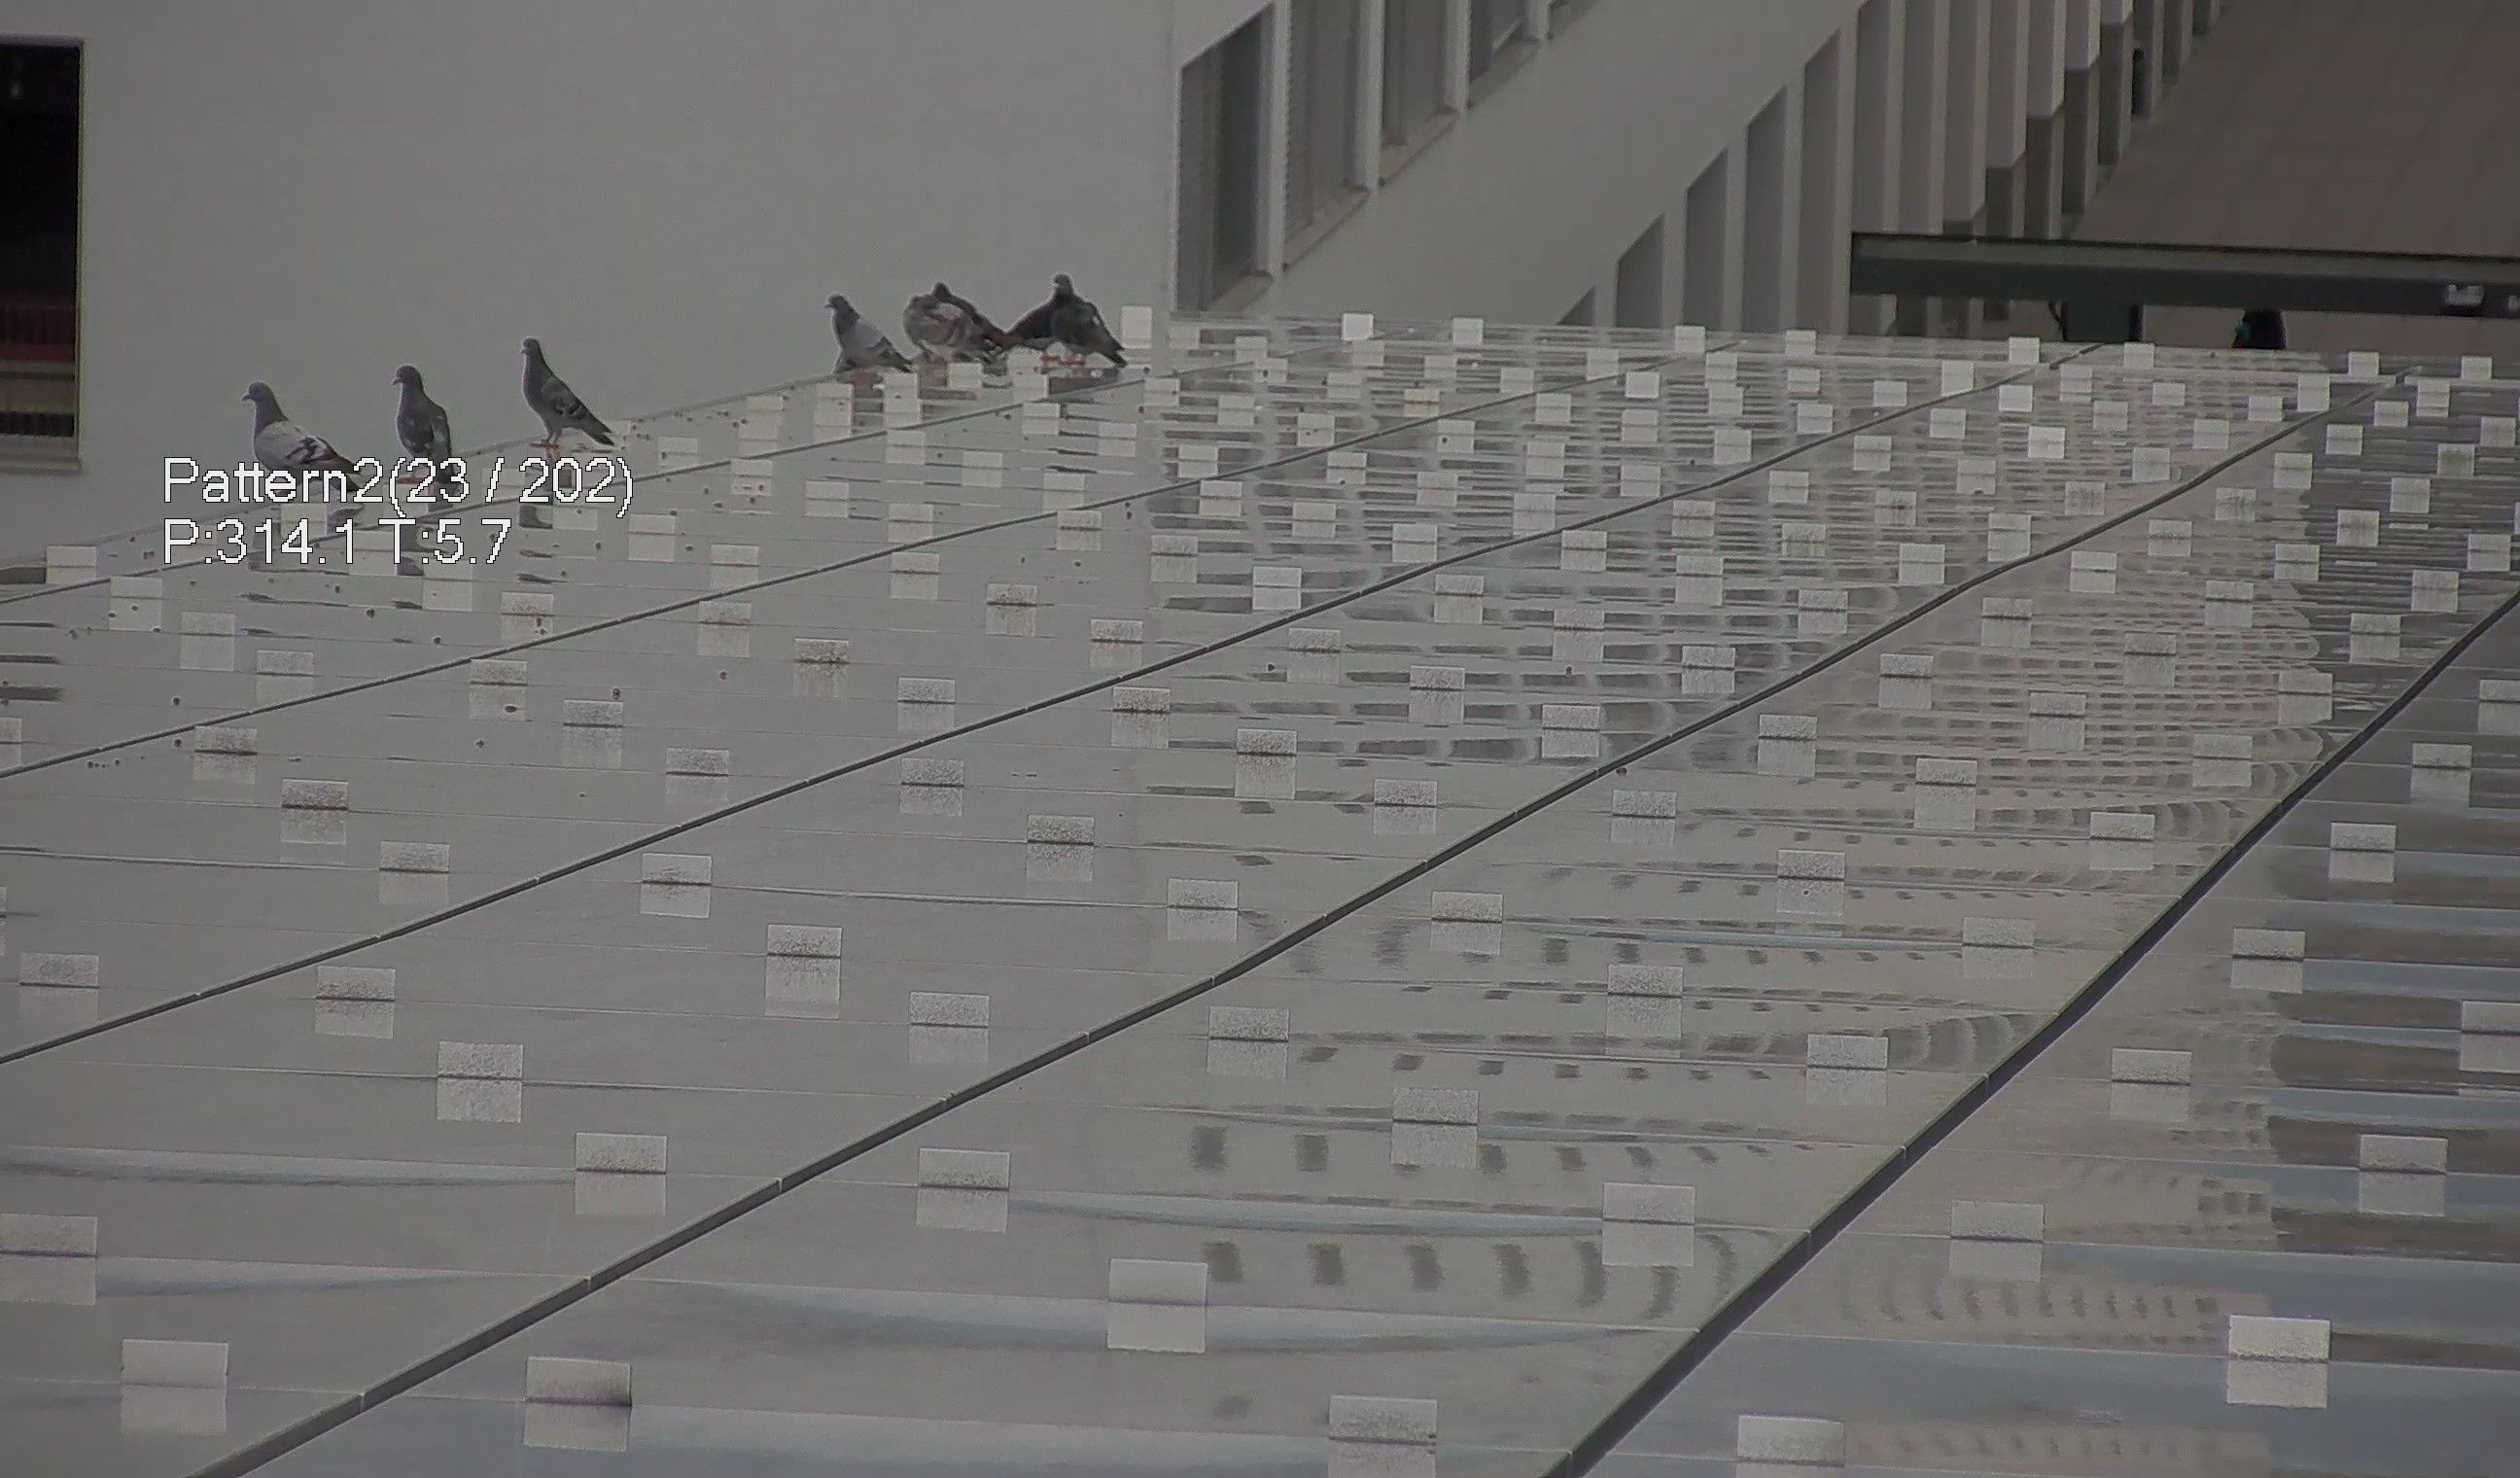Pigeon: (227, 371, 371, 494), (494, 327, 610, 461), (895, 269, 1018, 371), (364, 355, 450, 479), (807, 283, 904, 392), (1043, 260, 1115, 384), (997, 282, 1067, 366)
